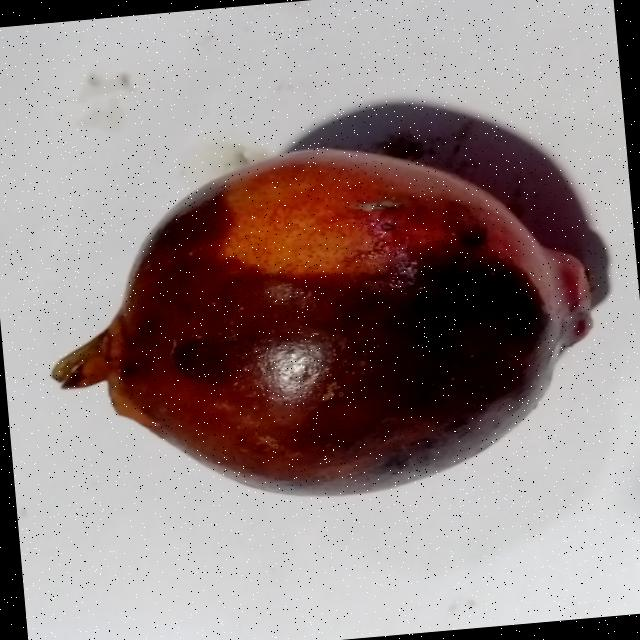Rotten: (23, 122, 614, 524)
